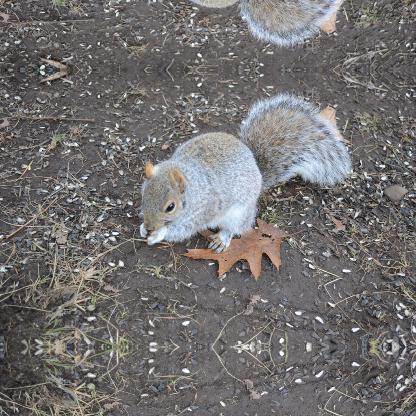Squirrel: (138, 91, 354, 253), (138, 0, 354, 48)
